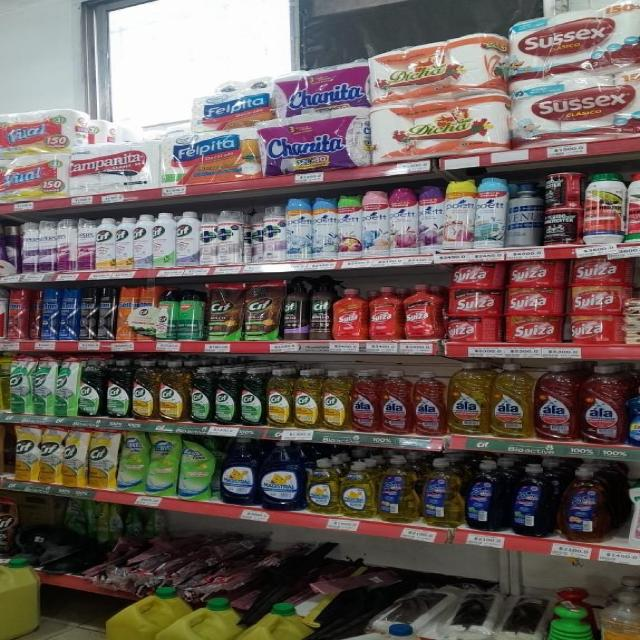ala_conc_amarillo: (490, 362, 532, 438), (448, 360, 488, 436)
ala_conc_rojo: (579, 364, 626, 445), (535, 362, 577, 442), (412, 371, 447, 436), (380, 369, 410, 435), (351, 369, 379, 434)
cif_conc_bot_amarilla: (321, 369, 350, 431), (159, 361, 188, 422), (293, 368, 320, 429), (132, 360, 157, 420), (266, 368, 291, 428)
cif_conc_botella_verde: (78, 357, 104, 417), (239, 368, 265, 427), (105, 359, 130, 418), (214, 367, 238, 424), (190, 365, 213, 424)
cif_conc_sachet_amarillo: (88, 428, 116, 489), (13, 424, 38, 481), (63, 427, 86, 486), (39, 426, 62, 484)
cif_conc_sachet_verde: (31, 355, 54, 416), (55, 355, 77, 417), (7, 355, 29, 414)
magistral_con_amarillo: (341, 460, 375, 518), (305, 458, 339, 514)
magistral_con_azul: (260, 440, 303, 511), (220, 436, 258, 505)
odex: (600, 586, 640, 640)
zorro: (560, 465, 609, 541), (510, 462, 555, 536), (465, 459, 507, 531), (421, 457, 462, 527), (377, 456, 418, 522)
